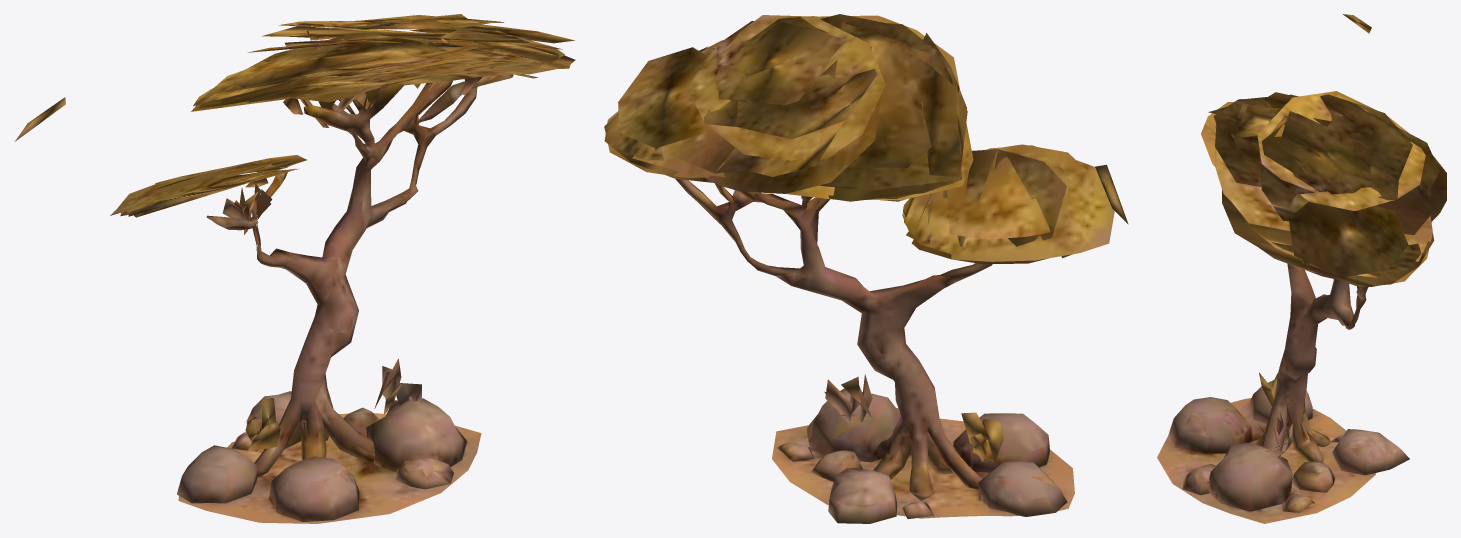
The model's file is tree_02.glb.
3 renders of one model, left to right at view 1: azimuth 30°, elevation 25°; view 2: azimuth 150°, elevation 25°; view 3: azimuth 270°, elevation 25°, orthographic. The views are drawn at different scales.
Parts seen in each view (by area): view 1: tree_02; view 2: tree_02; view 3: tree_02.
Part boxes in pixels (<box>): tree_02: <box>15,14,575,523</box>; tree_02: <box>604,14,1128,523</box>; tree_02: <box>1157,14,1446,523</box>.
Bounding box in the file's own units: 5.91 × 4.6 × 3.17.
Materials: 1 (1 with a texture image).
